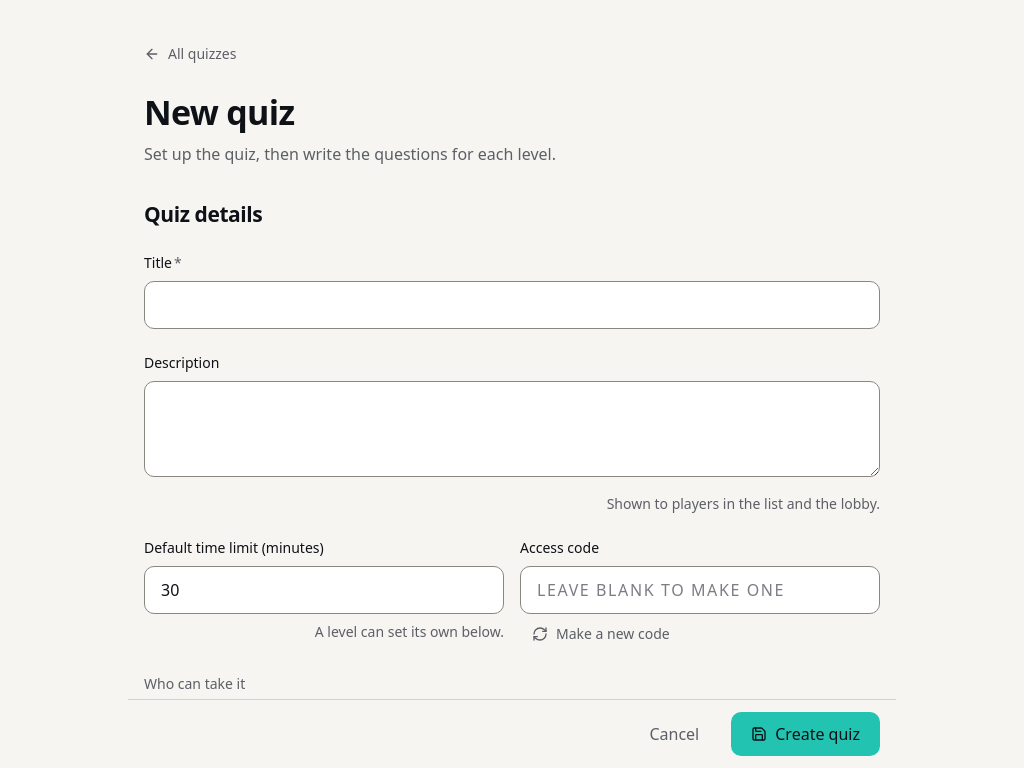
Scenario: the draft kept on the device › works without storage: the editor still opens and says the copy couldn't be kept
In the field labelled "Title*": (512, 305) [144,281,880,329], type "Typing"
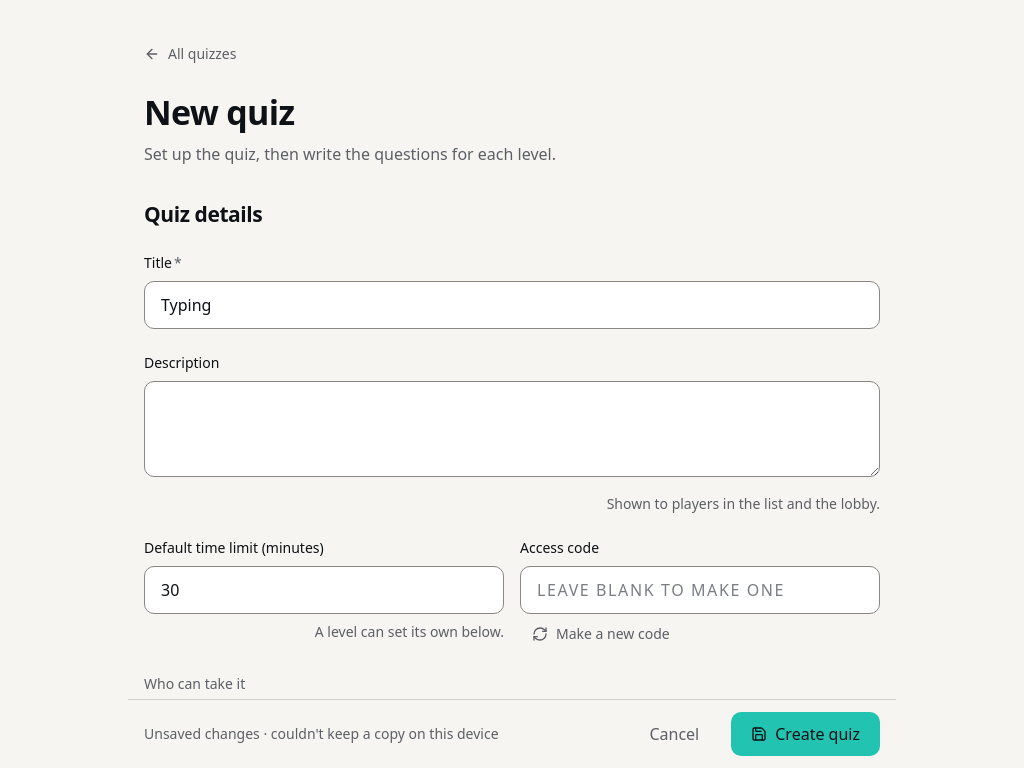
Expected: the text "Unsaved changes · couldn't keep a copy on this device" is shown, [144,724,499,744]
